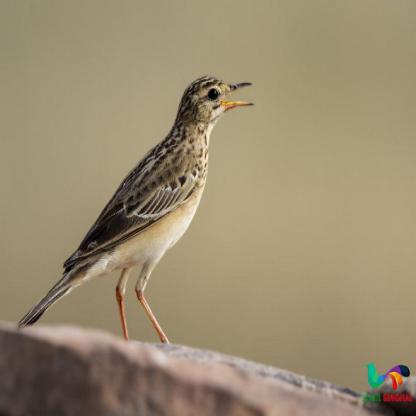Burung: (14, 78, 253, 342)
